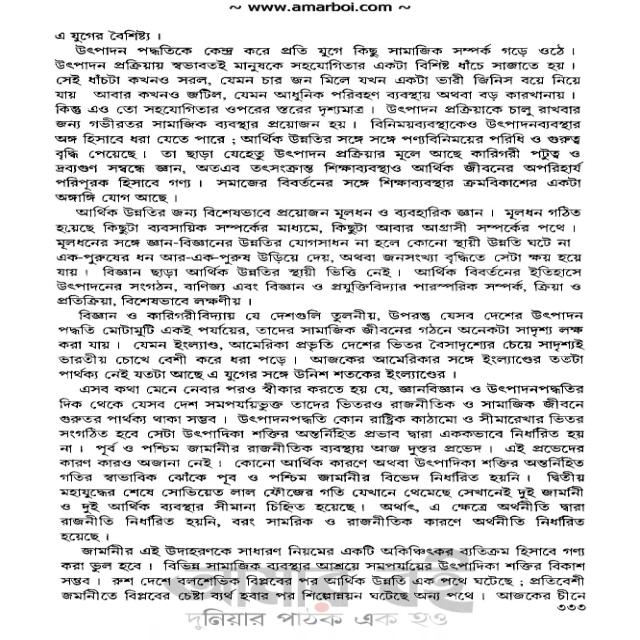page number: (554, 602, 590, 614)
paragraph: (51, 39, 584, 204), (55, 382, 585, 543), (51, 203, 594, 308), (56, 308, 583, 382), (54, 540, 604, 603), (48, 27, 163, 43)
text: (190, 607, 436, 631), (229, 1, 409, 17)
